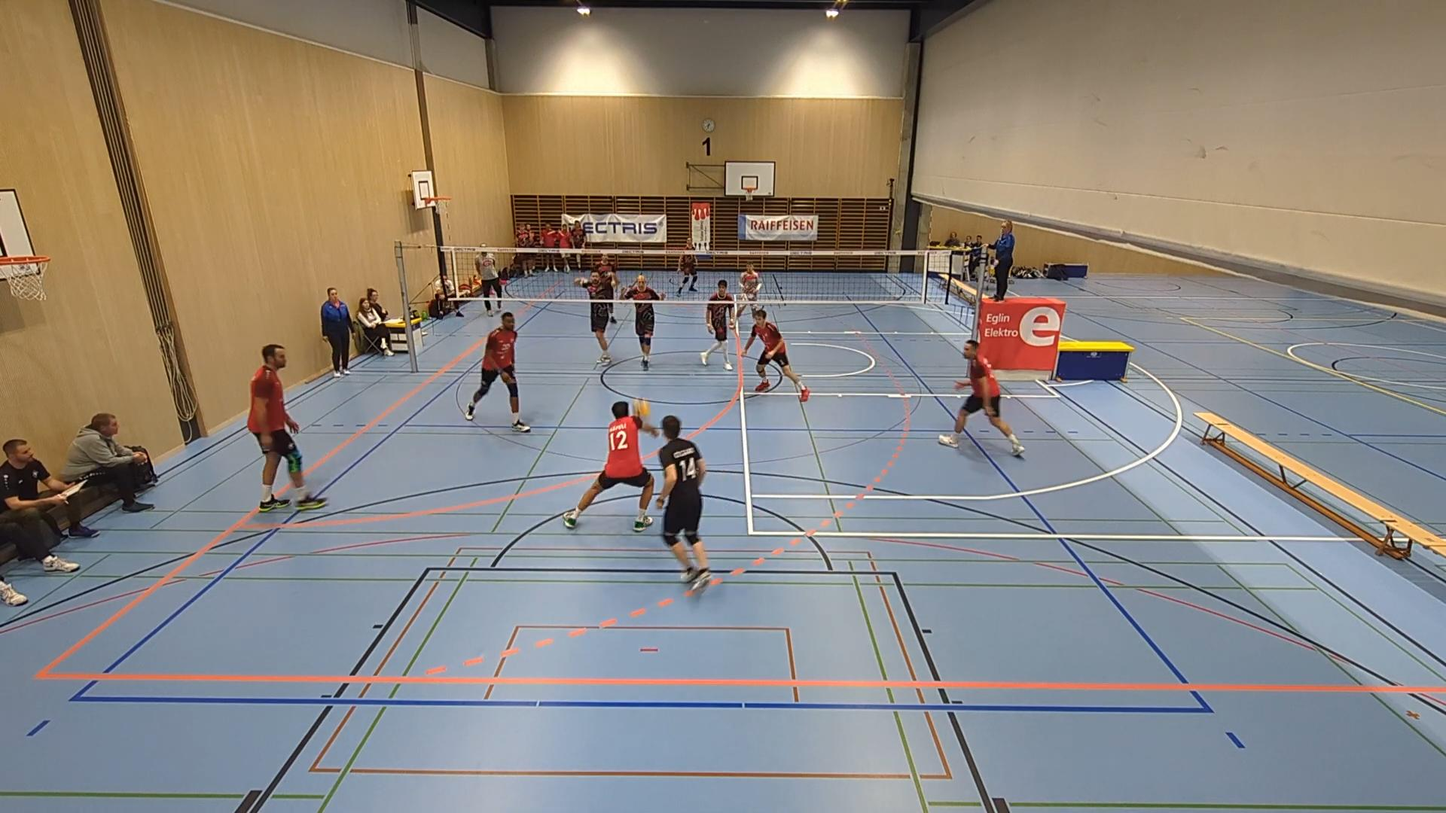ricezione: (563, 399, 663, 527)
